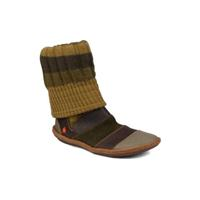shoe: (40, 42, 159, 158)
